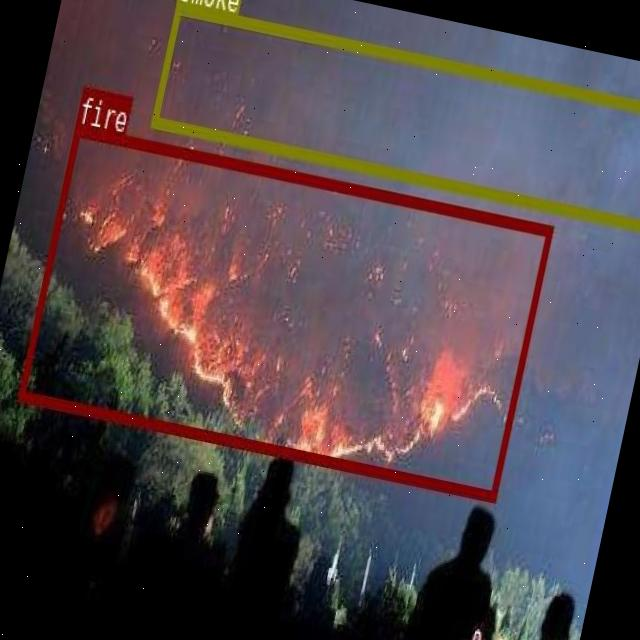fire: (16, 124, 552, 499)
smoke: (150, 0, 640, 231)
